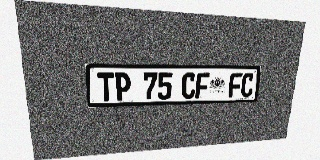5: (158, 73, 172, 100)
7: (143, 73, 158, 100)
C: (181, 73, 196, 99), (240, 73, 255, 97)
F: (195, 73, 210, 99), (228, 73, 243, 98)
P: (114, 72, 131, 101)
T: (97, 72, 115, 101)
